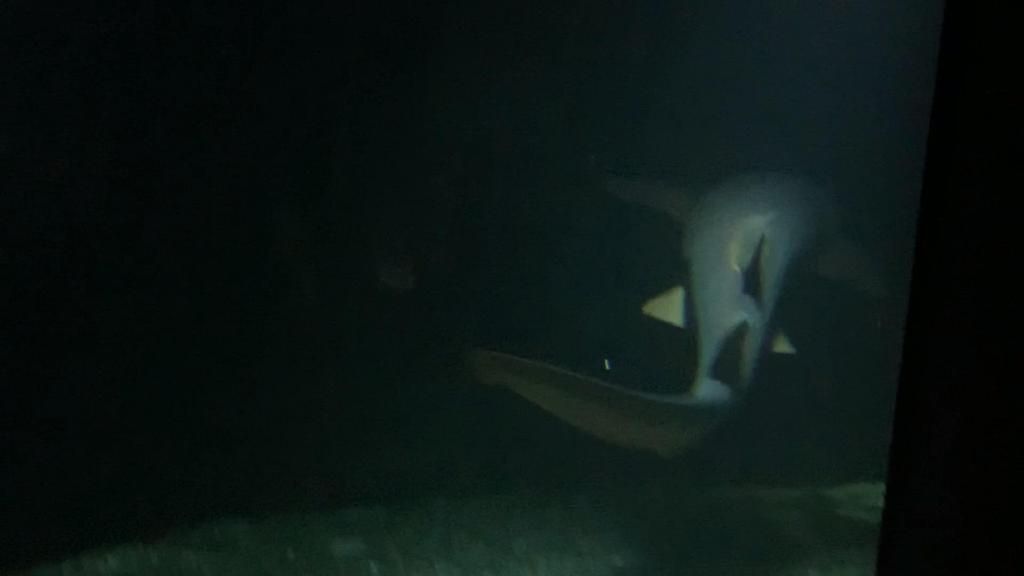shark: (466, 162, 898, 462)
